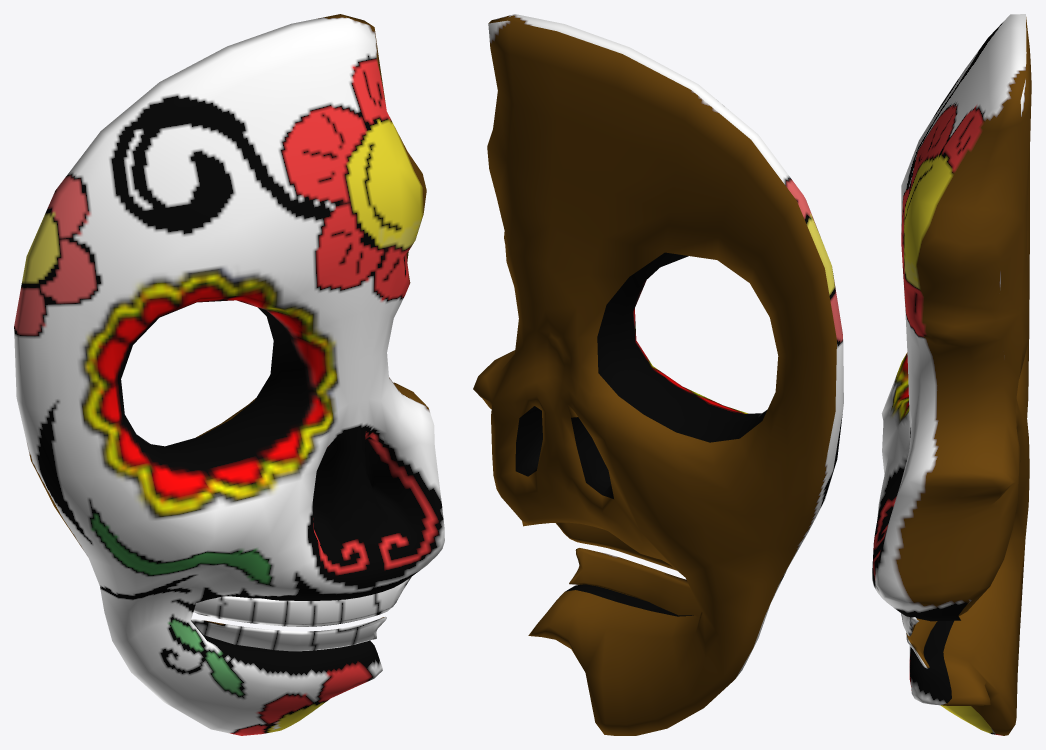
File: Mascara_Oculto.glb
The picture shows the model from 3 angles, left to right: view 1: azimuth 30°, elevation 25°; view 2: azimuth 150°, elevation 25°; view 3: azimuth 270°, elevation 25°; orthographic projection.
Parts seen in each view (by area): view 1: Mascara_Oculto; view 2: Mascara_Oculto; view 3: Mascara_Oculto.
Boxes of the visible parts, x1=… form: Mascara_Oculto: x1=14, y1=14, x2=444, y2=735; Mascara_Oculto: x1=473, y1=14, x2=843, y2=735; Mascara_Oculto: x1=872, y1=14, x2=1031, y2=735.
Bounding box in the file's own units: 0.1143 × 0.2034 × 0.0419.
Materials: 1 (1 with a texture image).
